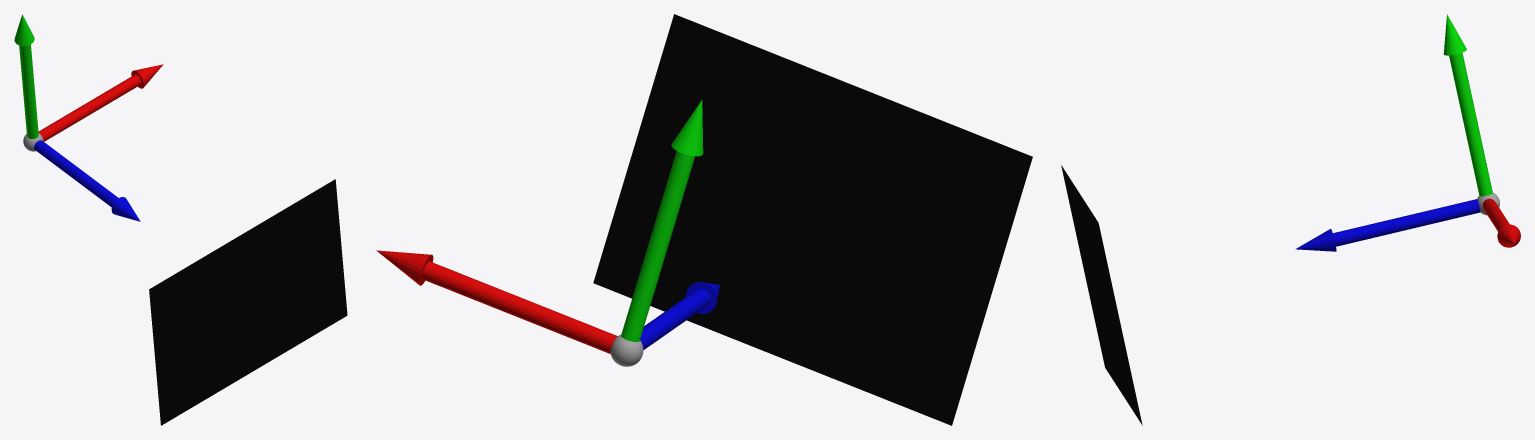
3 renders of one model, left to right at view 1: azimuth 30°, elevation 25°; view 2: azimuth 150°, elevation 25°; view 3: azimuth 270°, elevation 25°, orthographic. The views are drawn at different scales.
Bounding box in the file's own units: 0.1988 × 0.2475 × 0.2886.
